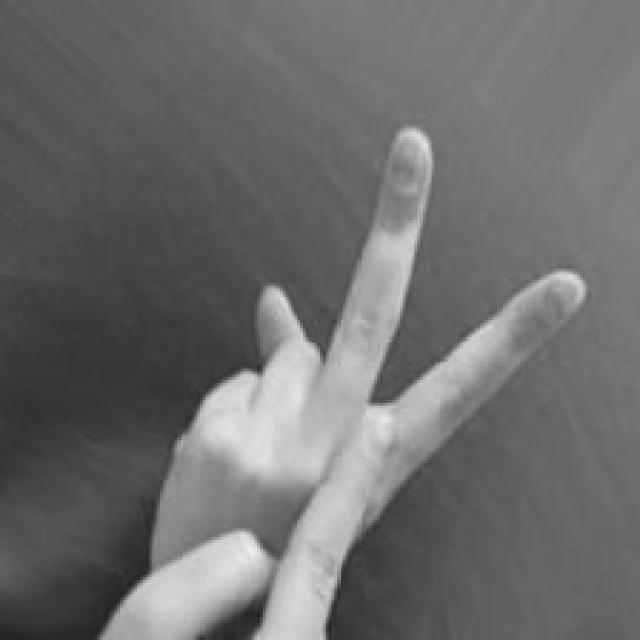Y: (101, 121, 585, 640)
